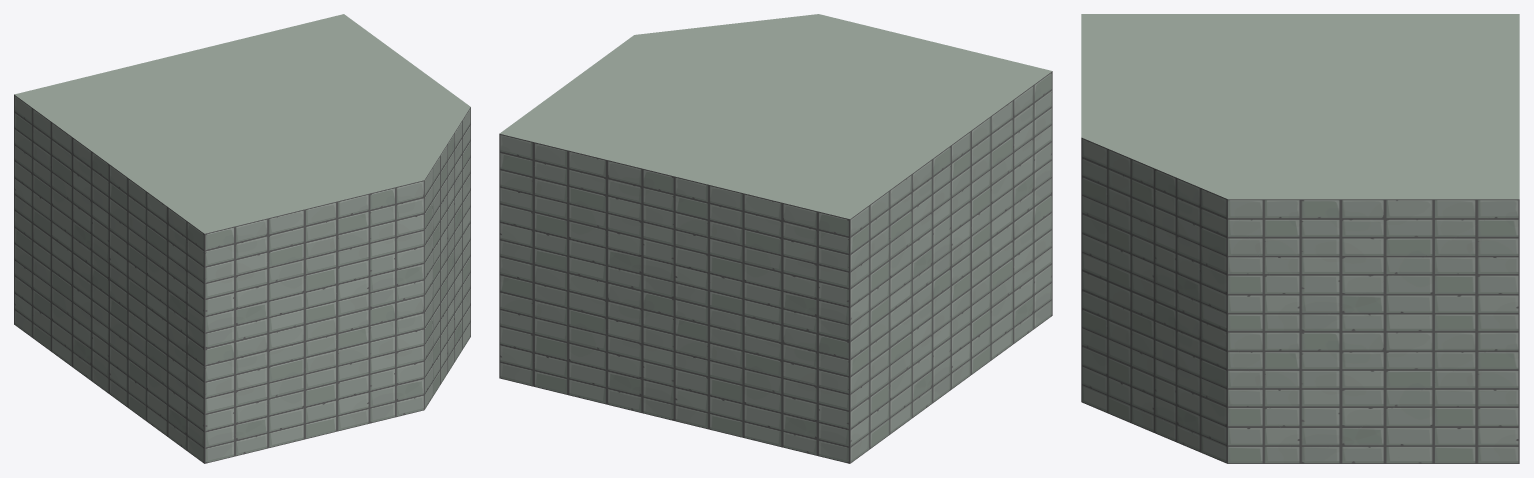
Rendered from Bock_A2.fbx.
3 views of the same model, side by side, from view 1: azimuth 30°, elevation 25°; view 2: azimuth 150°, elevation 25°; view 3: azimuth 270°, elevation 25° (orthographic). The views are drawn at different scales.
Parts seen in each view (by area): view 1: Bock_A2; view 2: Bock_A2; view 3: Bock_A2.
Boxes of the visible parts, <box> form: Bock_A2: <box>14,14,470,463</box>; Bock_A2: <box>499,14,1052,463</box>; Bock_A2: <box>1081,14,1519,463</box>.
Bounding box in the file's own units: 600 × 400 × 600.
1 material, 1 textured.
